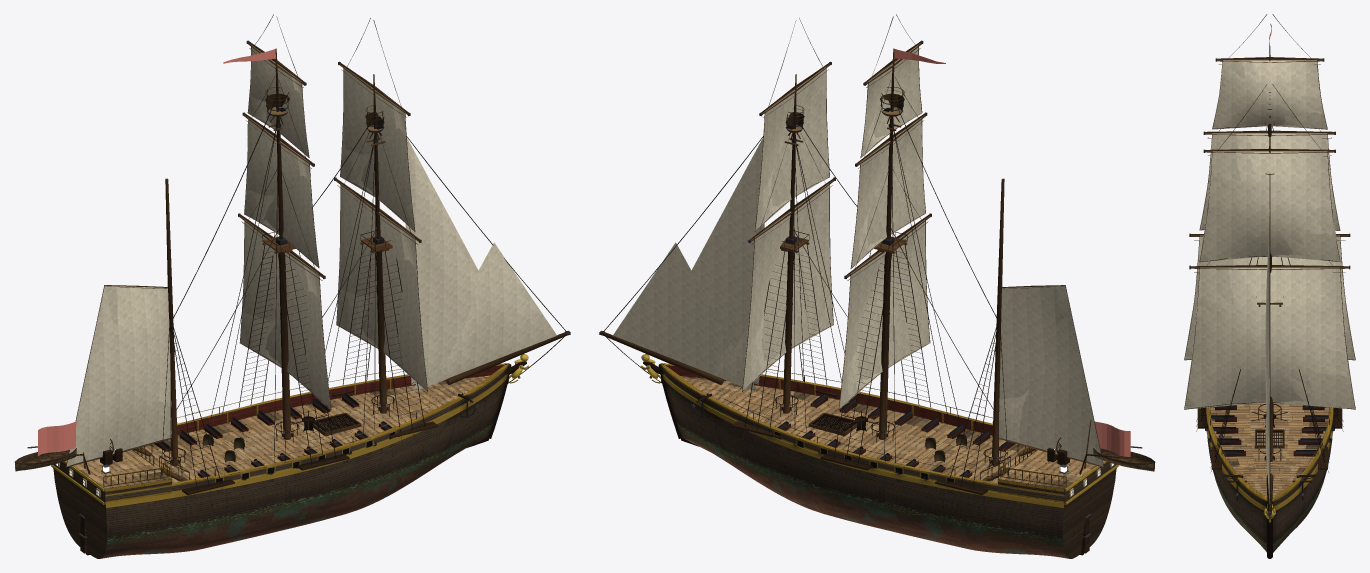
The model's file is barque.glb.
The picture shows the model from 3 angles, left to right: view 1: azimuth 30°, elevation 25°; view 2: azimuth 150°, elevation 25°; view 3: azimuth 270°, elevation 25°; orthographic projection. The views are drawn at different scales.
Parts seen in each view (by area): view 1: LOD0_Body, LOD0_Wood, LOD2_m1_SquareSail, LOD0_Jib, LOD2_m0_SquareSail, LOD2_Body, LOD0_m2_AftSail, LOD1_Wood, LOD2_Wood, LOD0_m1_SquareSail, LOD1_m0_SquareSail, LOD0_m0_SquareSail (+10 smaller); view 2: LOD0_Body, LOD0_Wood, LOD2_m1_SquareSail, LOD2_Jib, LOD2_m0_SquareSail, LOD2_Body, LOD2_m2_AftSail, LOD2_Wood, LOD1_Wood, LOD0_m1_SquareSail, LOD0_m0_SquareSail, LOD1_m0_SquareSail (+10 smaller); view 3: LOD0_m0_SquareSail, LOD0_m1_SquareSail, LOD2_Body, LOD0_Body, LOD0_Wood, LOD2_m0_SquareSail, LOD1_m0_SquareSail, LOD1_m1_SquareSail, LOD2_m1_SquareSail, LOD0_m0_SquareYards, LOD0_Jib, LOD0_m1_SquareYards (+8 smaller).
Boxes of the visible parts, bbox=[...] form: LOD0_Body: bbox=[53, 93, 529, 558]; LOD0_Wood: bbox=[14, 48, 570, 558]; LOD2_m1_SquareSail: bbox=[240, 52, 330, 409]; LOD0_Jib: bbox=[405, 138, 541, 392]; LOD2_m0_SquareSail: bbox=[337, 67, 426, 388]; LOD2_Body: bbox=[66, 365, 504, 556]; LOD0_m2_AftSail: bbox=[67, 286, 171, 466]; LOD1_Wood: bbox=[54, 50, 567, 558]; LOD2_Wood: bbox=[59, 123, 508, 546]; LOD0_m1_SquareSail: bbox=[240, 74, 329, 401]; LOD1_m0_SquareSail: bbox=[338, 103, 427, 391]; LOD0_m0_SquareSail: bbox=[336, 99, 426, 386]; LOD0_Body: bbox=[640, 93, 1116, 558]; LOD0_Wood: bbox=[599, 48, 1155, 558]; LOD2_m1_SquareSail: bbox=[841, 59, 929, 402]; LOD2_Jib: bbox=[613, 137, 764, 392]; LOD2_m0_SquareSail: bbox=[744, 77, 832, 388]; LOD2_Body: bbox=[665, 365, 1103, 556]; LOD2_m2_AftSail: bbox=[999, 286, 1102, 466]; LOD2_Wood: bbox=[608, 121, 1110, 546]; LOD1_Wood: bbox=[603, 93, 1115, 558]; LOD0_m1_SquareSail: bbox=[839, 45, 929, 408]; LOD0_m0_SquareSail: bbox=[742, 67, 832, 390]; LOD1_m0_SquareSail: bbox=[746, 73, 833, 381]; LOD0_m0_SquareSail: bbox=[1184, 151, 1347, 409]; LOD0_m1_SquareSail: bbox=[1184, 60, 1347, 359]; LOD2_Body: bbox=[1210, 403, 1329, 552]; LOD0_Body: bbox=[1196, 99, 1343, 552]; LOD0_Wood: bbox=[1197, 46, 1342, 558]; LOD2_m0_SquareSail: bbox=[1185, 151, 1355, 409]; LOD1_m0_SquareSail: bbox=[1191, 151, 1348, 404]; LOD1_m1_SquareSail: bbox=[1185, 60, 1348, 356]; LOD2_m1_SquareSail: bbox=[1186, 60, 1355, 360]; LOD0_m0_SquareYards: bbox=[1184, 84, 1355, 409]; LOD0_Jib: bbox=[1265, 210, 1269, 473]; LOD0_m1_SquareYards: bbox=[1184, 14, 1355, 360].
Size of the model in its own units: 44.22 by 38.61 by 12.65.
5 materials, 3 textured.
